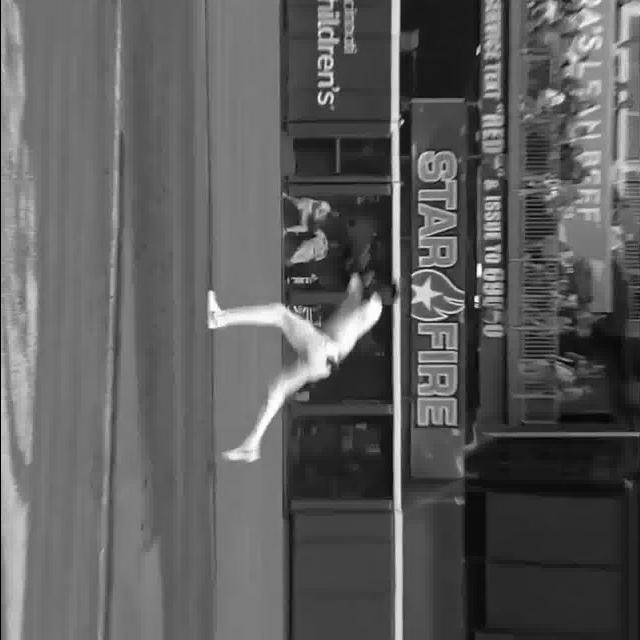baseball_glove: (333, 220, 363, 260)
shoe: (218, 441, 261, 472), (203, 290, 227, 336)
